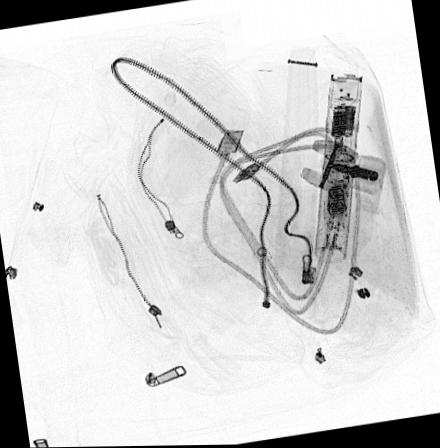Baton: (311, 72, 362, 265)
